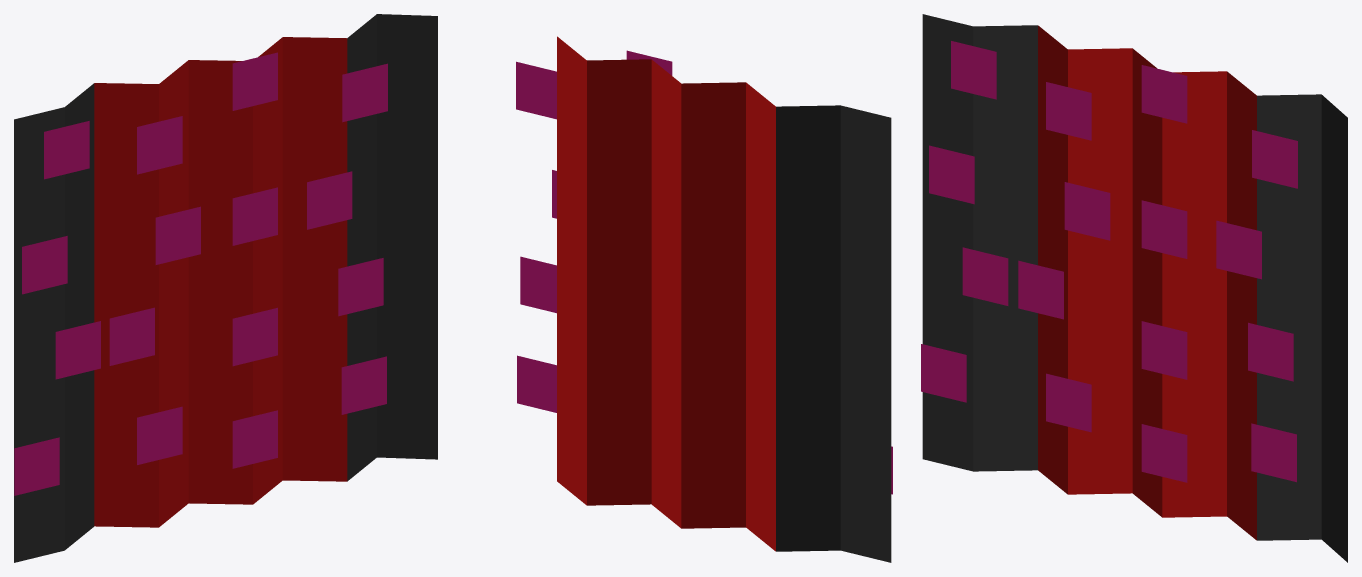
Rendered from farm1d.obj.
The picture shows the model from 3 angles, left to right: view 1: azimuth 30°, elevation 25°; view 2: azimuth 150°, elevation 25°; view 3: azimuth 330°, elevation 25°; orthographic projection.
Parts seen in each view (by area): view 1: Plane, Plane.002, Plane.005, Plane.008, Plane.009, Plane.010, Plane.016, Plane.001, Plane.003, Plane.004, Plane.007, Plane.011 (+5 smaller); view 2: Plane, Plane.016, Plane.013, Plane.014; view 3: Plane, Plane.003, Plane.011, Plane.007, Plane.009, Plane.010, Plane.012, Plane.005, Plane.013, Plane.014, Plane.015, Plane.002 (+5 smaller).
Part boxes in pixels (x1,y1,x2,y2): Plane: (14, 14, 437, 562); Plane.002: (22, 236, 67, 294); Plane.005: (137, 406, 182, 464); Plane.008: (137, 116, 182, 174); Plane.009: (232, 52, 277, 110); Plane.010: (232, 187, 277, 245); Plane.016: (342, 63, 387, 122); Plane.001: (44, 121, 89, 179); Plane.003: (55, 321, 100, 379); Plane.004: (14, 437, 59, 495); Plane.007: (155, 206, 200, 264); Plane.011: (232, 307, 277, 366); Plane: (557, 36, 891, 562); Plane.016: (516, 61, 556, 119); Plane.013: (517, 355, 556, 412); Plane.014: (520, 256, 556, 313); Plane: (922, 14, 1347, 562); Plane.003: (962, 247, 1008, 305); Plane.011: (1141, 321, 1187, 379); Plane.007: (1064, 182, 1110, 240); Plane.009: (1141, 65, 1187, 123); Plane.010: (1141, 200, 1187, 258); Plane.012: (1141, 424, 1187, 482); Plane.005: (1046, 373, 1091, 432); Plane.013: (1251, 423, 1296, 482); Plane.014: (1248, 322, 1293, 381); Plane.015: (1216, 220, 1261, 279); Plane.002: (929, 145, 974, 204).
Size of the model in its own units: 1.33 by 1.34 by 0.0984.
